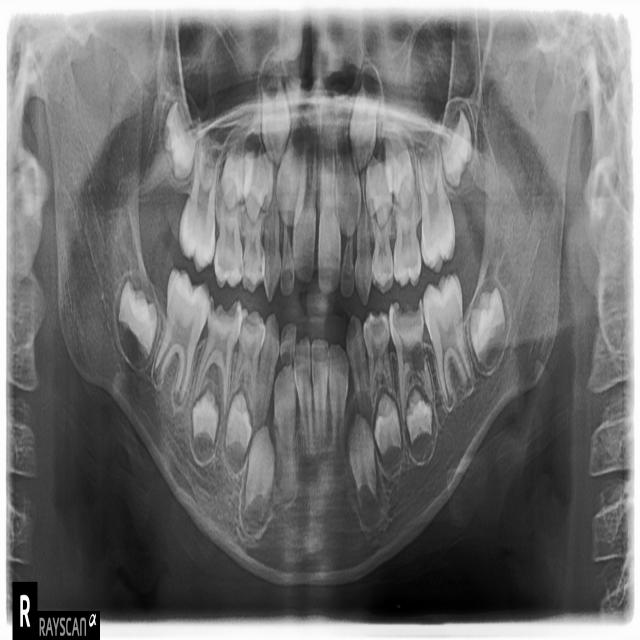mandibula: (35, 22, 581, 588)
